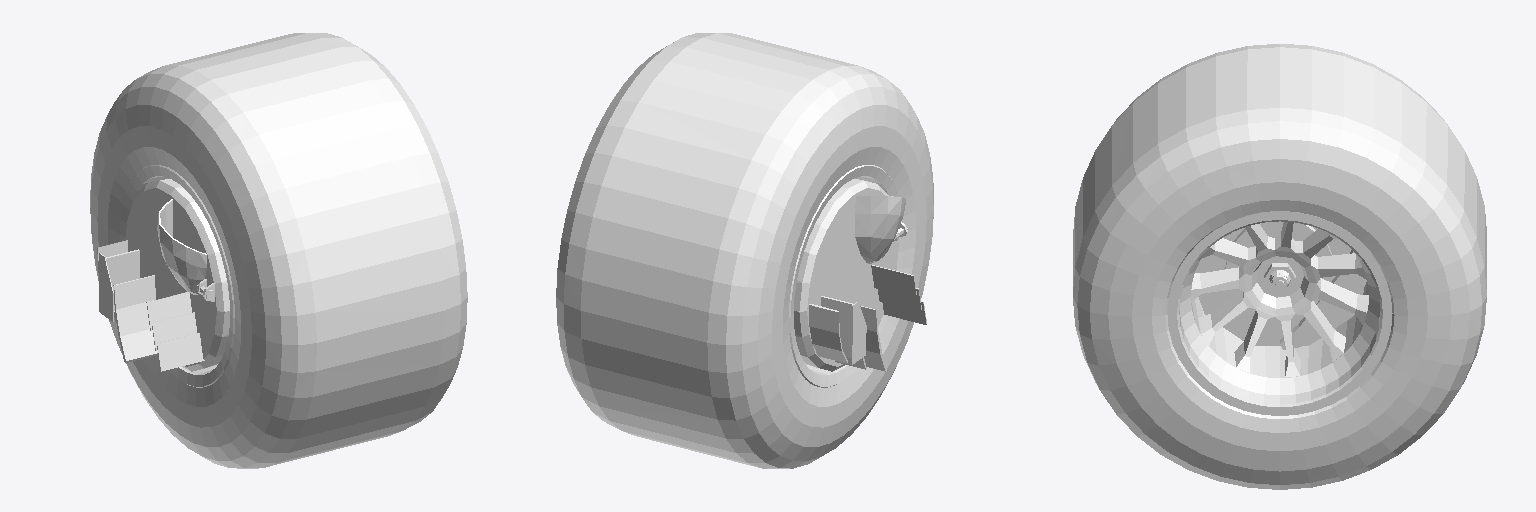
Rendered from back_right.obj.
3 views of the same model, side by side, from view 1: azimuth 30°, elevation 25°; view 2: azimuth 150°, elevation 25°; view 3: azimuth 270°, elevation 25° (orthographic).
Parts seen in each view (by area): view 1: object__50_004-mesh, object__49_004-mesh, object__28_005-mesh, object__18_004-mesh; view 2: object__50_004-mesh, object__49_004-mesh, object__28_005-mesh, object__18_004-mesh; view 3: object__49_004-mesh, object__50_004-mesh, object__18_004-mesh, object__38_005-mesh, object__28_005-mesh.
Part boxes in pixels (left/top/right/bottom): object__50_004-mesh: left=109, top=33, right=467, bottom=468; object__49_004-mesh: left=90, top=87, right=281, bottom=460; object__28_005-mesh: left=97, top=179, right=229, bottom=371; object__18_004-mesh: left=120, top=165, right=234, bottom=387; object__50_004-mesh: left=556, top=33, right=914, bottom=468; object__49_004-mesh: left=742, top=87, right=933, bottom=460; object__28_005-mesh: left=794, top=179, right=926, bottom=371; object__18_004-mesh: left=789, top=165, right=903, bottom=387; object__49_004-mesh: left=1090, top=139, right=1469, bottom=484; object__50_004-mesh: left=1073, top=44, right=1486, bottom=489; object__18_004-mesh: left=1167, top=211, right=1392, bottom=415; object__38_005-mesh: left=1195, top=221, right=1365, bottom=345; object__28_005-mesh: left=1198, top=250, right=1366, bottom=349.
Bounding box in the file's own units: 4.55 × 6.42 × 6.4.